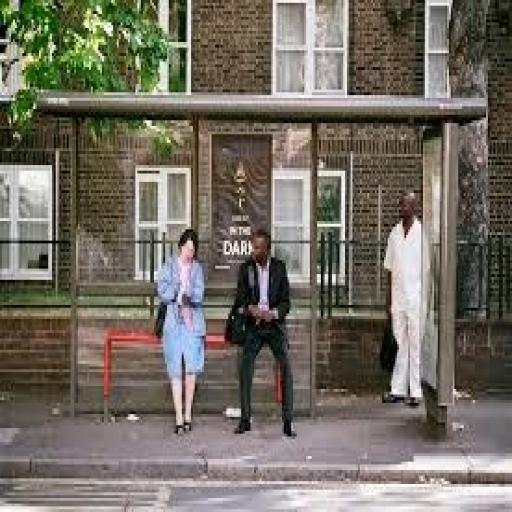sitting: (224, 224, 298, 439), (154, 224, 208, 436)
